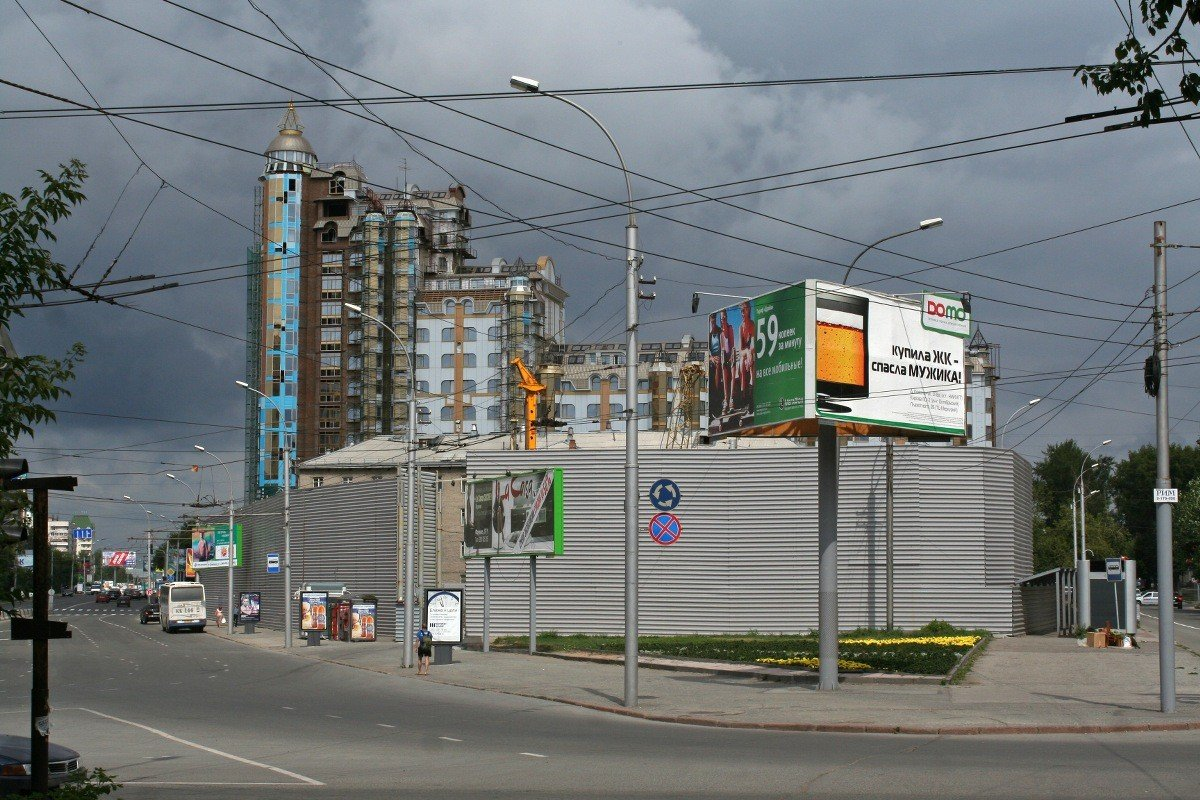sign: (648, 511, 682, 546), (649, 478, 682, 512), (1104, 555, 1124, 582), (265, 551, 282, 575), (82, 528, 93, 539), (72, 528, 82, 539), (166, 567, 175, 577)
